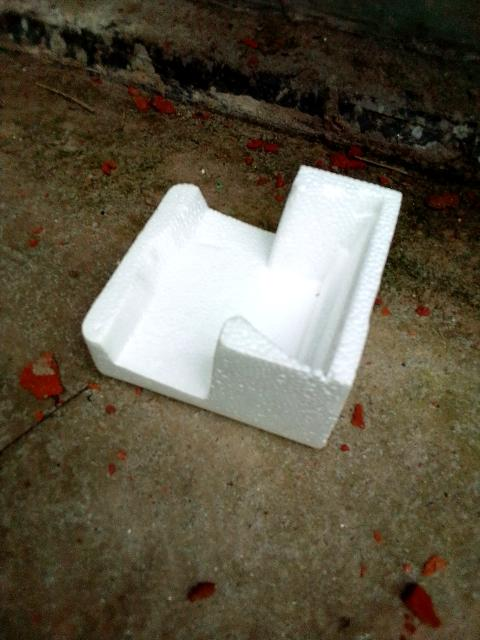cocksheet: (67, 127, 414, 467)
